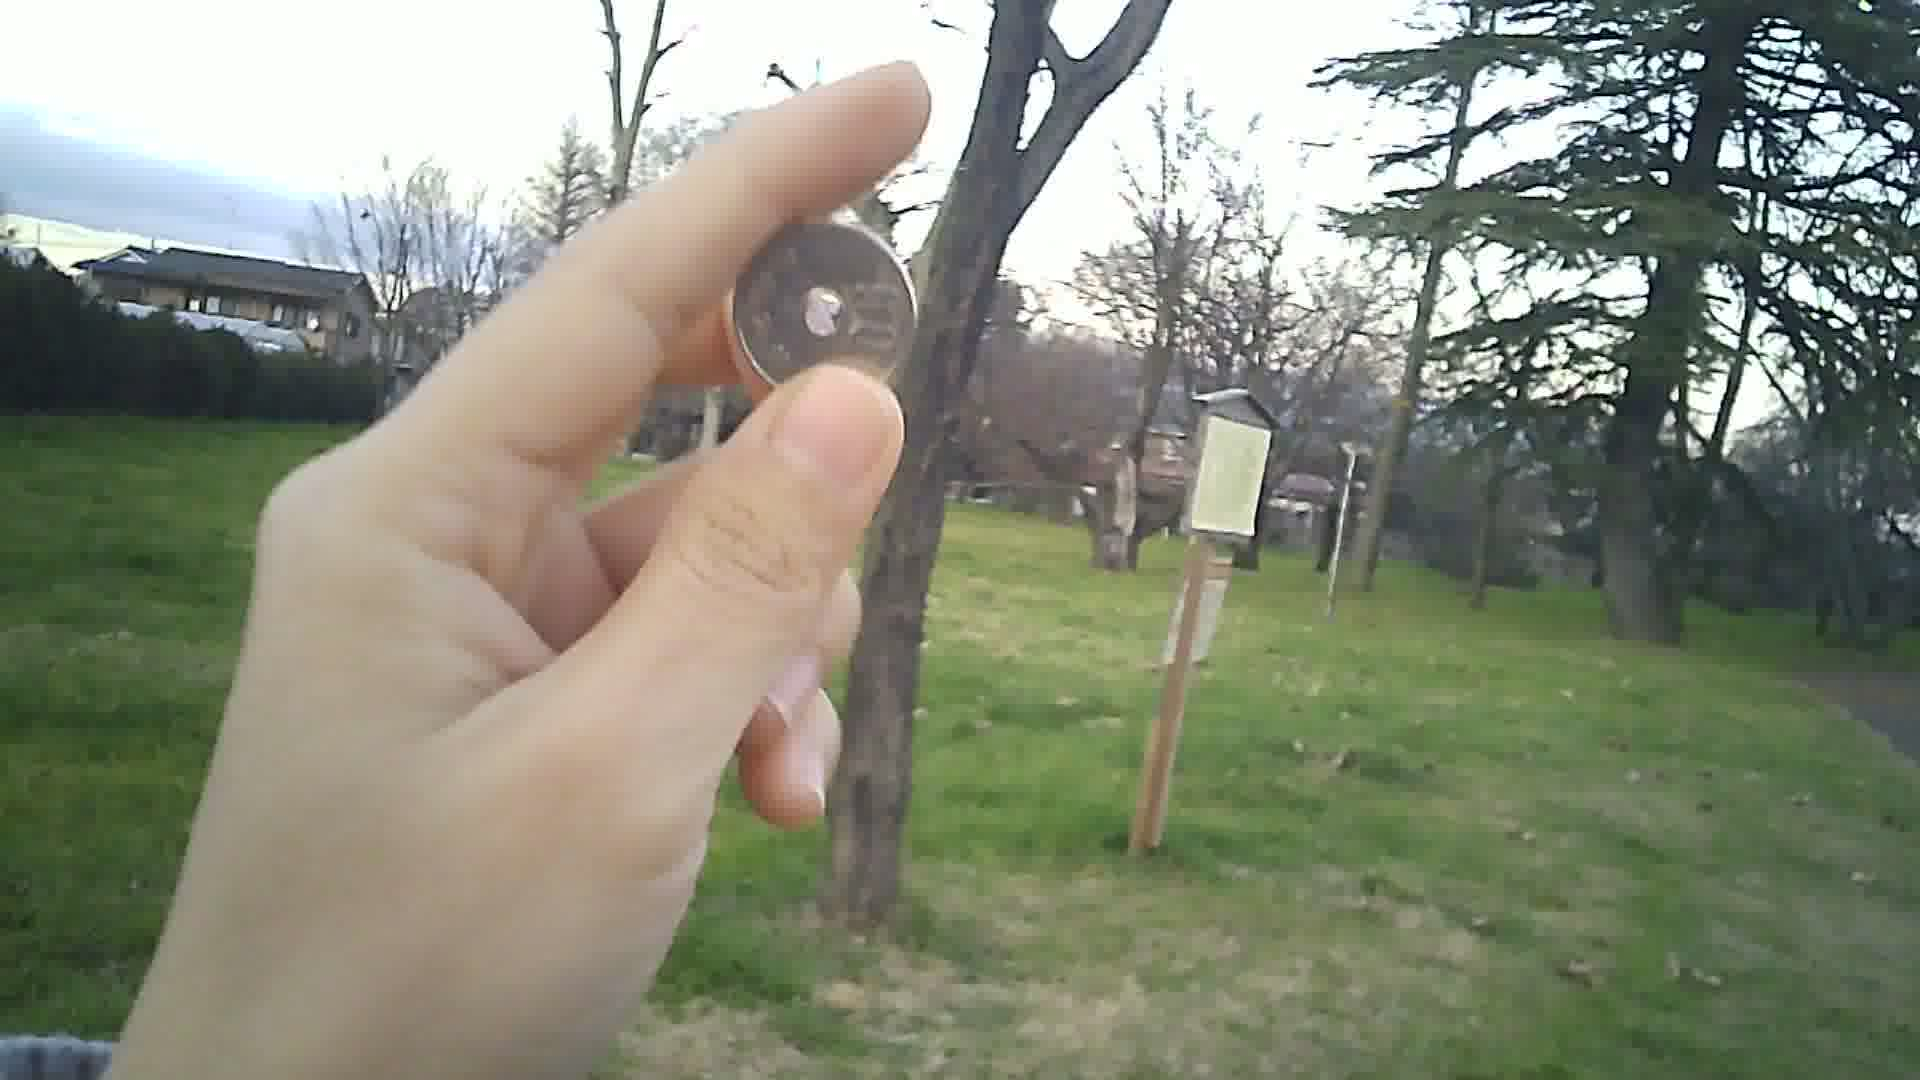50 Yen: (733, 210, 918, 397)
